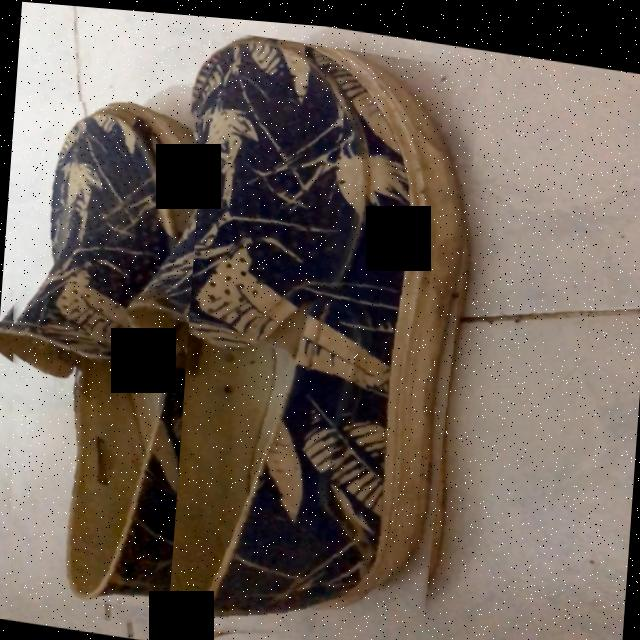shoe: (25, 31, 466, 627), (10, 105, 195, 599)
